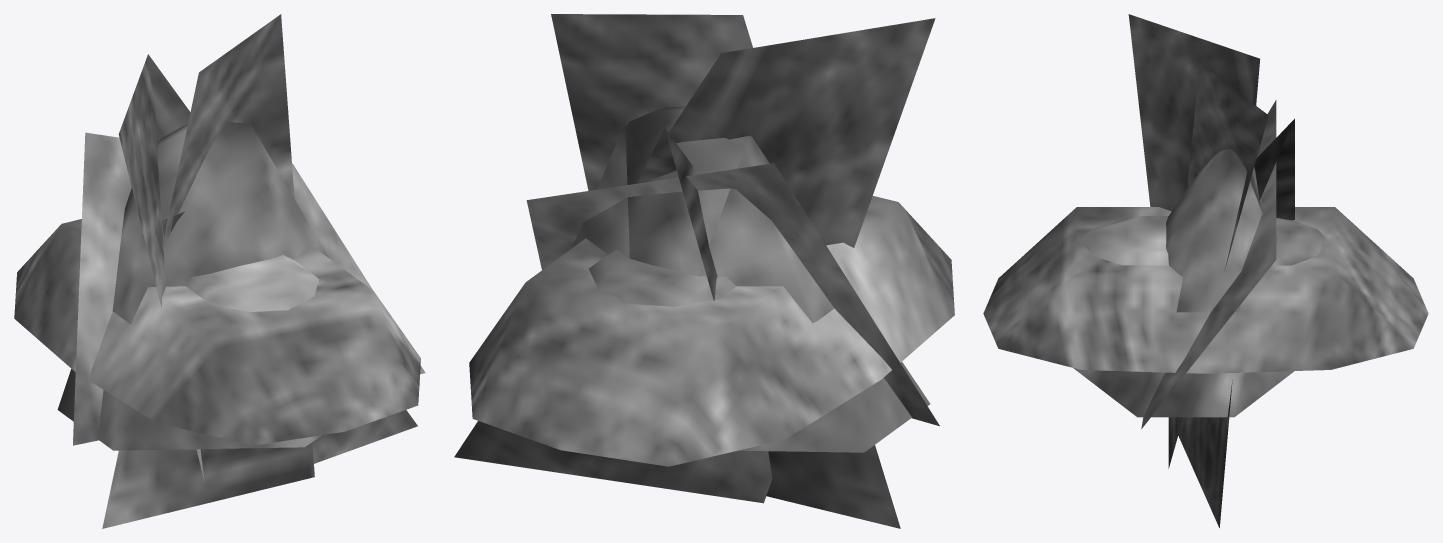
File: SpiderWeb.fbx
3 views of the same model, side by side, from view 1: azimuth 30°, elevation 25°; view 2: azimuth 150°, elevation 25°; view 3: azimuth 270°, elevation 25° (orthographic). The views are drawn at different scales.
Visible parts, largest first — view 1: SmallTabelWeb, ChairWeb, WebGroundCellingSmall, WebBig, WebGroundCellingBig, BankjeWeb; view 2: SmallTabelWeb, WebGroundCellingBig, ChairWeb, WebGroundCellingSmall, WebBig, BankjeWeb, WebMedium; view 3: SmallTabelWeb, ChairWeb, WebGroundCellingBig, WebGroundCellingSmall, BankjeWeb, WebBig, WebMedium.
Boxes of the visible parts, left/top/right/bottom form: SmallTabelWeb: left=14, top=219, right=420, bottom=445; ChairWeb: left=57, top=122, right=328, bottom=450; WebGroundCellingSmall: left=102, top=14, right=314, bottom=528; WebBig: left=73, top=132, right=425, bottom=445; WebGroundCellingBig: left=118, top=54, right=417, bottom=481; BankjeWeb: left=186, top=255, right=318, bottom=311; SmallTabelWeb: left=469, top=196, right=954, bottom=466; WebGroundCellingBig: left=454, top=18, right=935, bottom=503; ChairWeb: left=572, top=106, right=930, bottom=452; WebGroundCellingSmall: left=551, top=14, right=900, bottom=528; WebBig: left=526, top=163, right=939, bottom=426; BankjeWeb: left=589, top=249, right=736, bottom=306; WebMedium: left=637, top=127, right=717, bottom=300; SmallTabelWeb: left=983, top=207, right=1428, bottom=373; ChairWeb: left=1073, top=149, right=1294, bottom=417; WebGroundCellingBig: left=1128, top=14, right=1260, bottom=527; WebGroundCellingSmall: left=1168, top=63, right=1268, bottom=468; BankjeWeb: left=1080, top=216, right=1328, bottom=265; WebBig: left=1141, top=100, right=1276, bottom=428; WebMedium: left=1254, top=118, right=1294, bottom=220.
Bounding box in the file's own units: 327 × 347 × 382.
